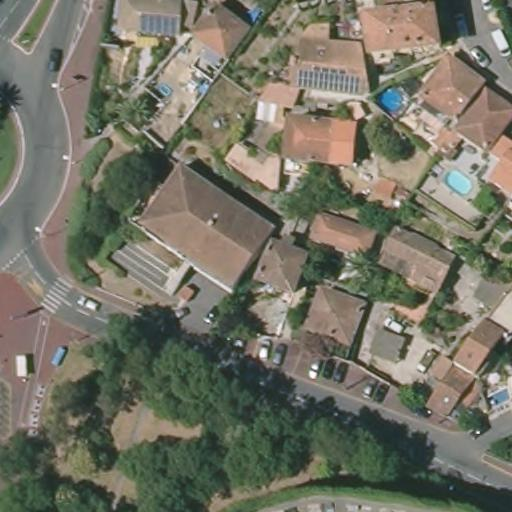pool: (441, 167, 474, 195), (378, 85, 405, 111), (485, 387, 511, 407), (190, 71, 211, 95), (155, 82, 174, 95)
